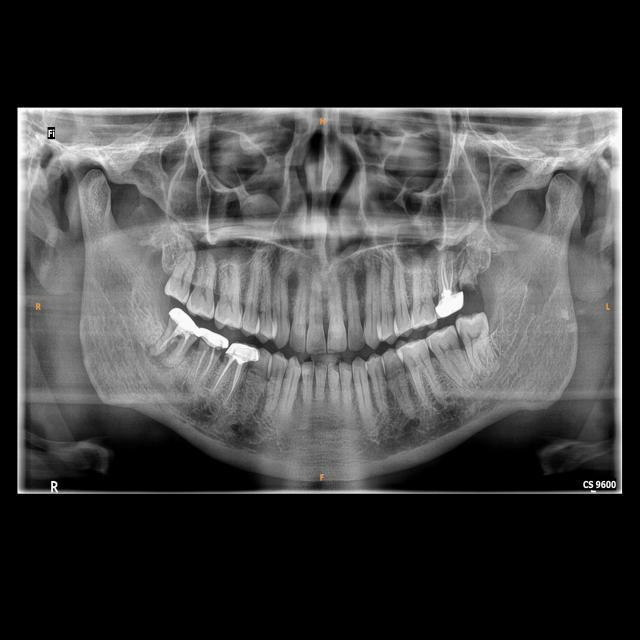kanal-tedavisi: (216, 360, 246, 400), (155, 329, 192, 356), (439, 256, 456, 292), (195, 347, 214, 378)
kaplama: (166, 309, 202, 339), (434, 290, 465, 318), (224, 343, 260, 365), (198, 328, 230, 352)
